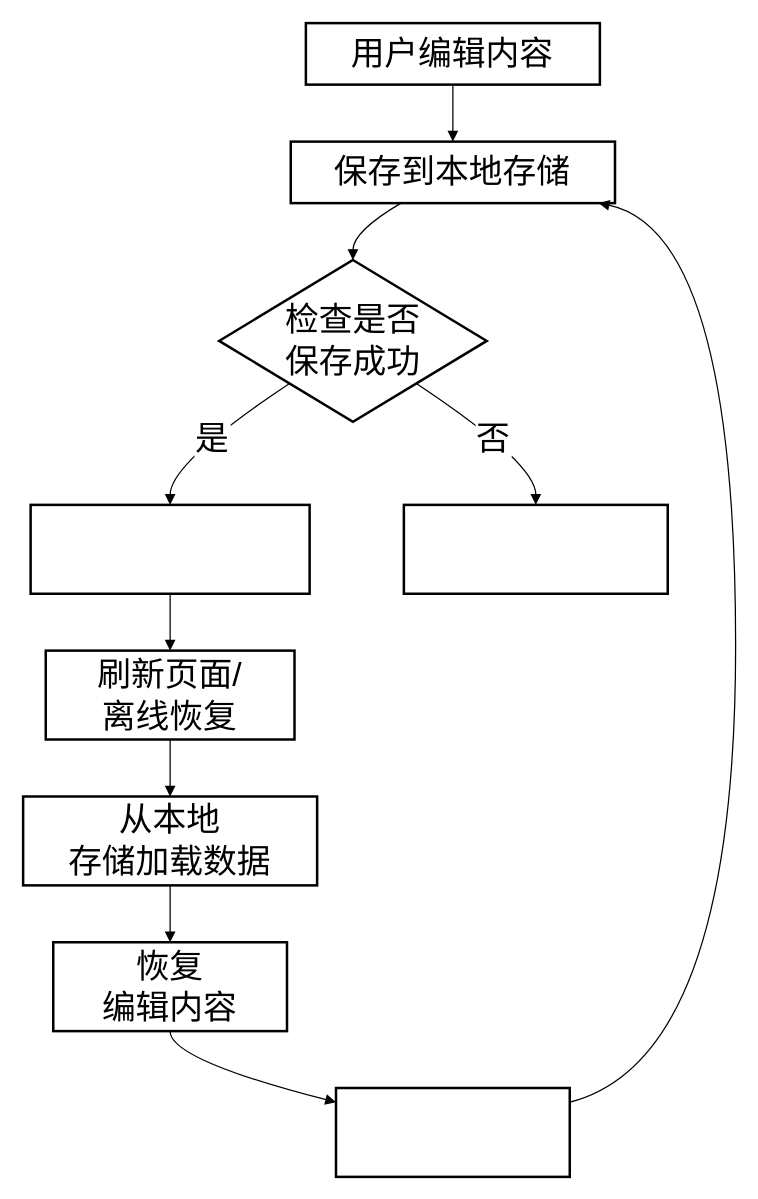
The diagram is 758 pixels wide and 1199 high, and some of its shapes have lost their labels. The shapes that lost their labels are listed below. From the top down, each one's box as (x1, y1, x2, y2) in pixels, then its label:
(29, 503, 310, 594): 数据保存在 localStorage
(402, 503, 668, 594): 保存失败， 重试
(334, 1086, 570, 1178): 用户 继续编辑
